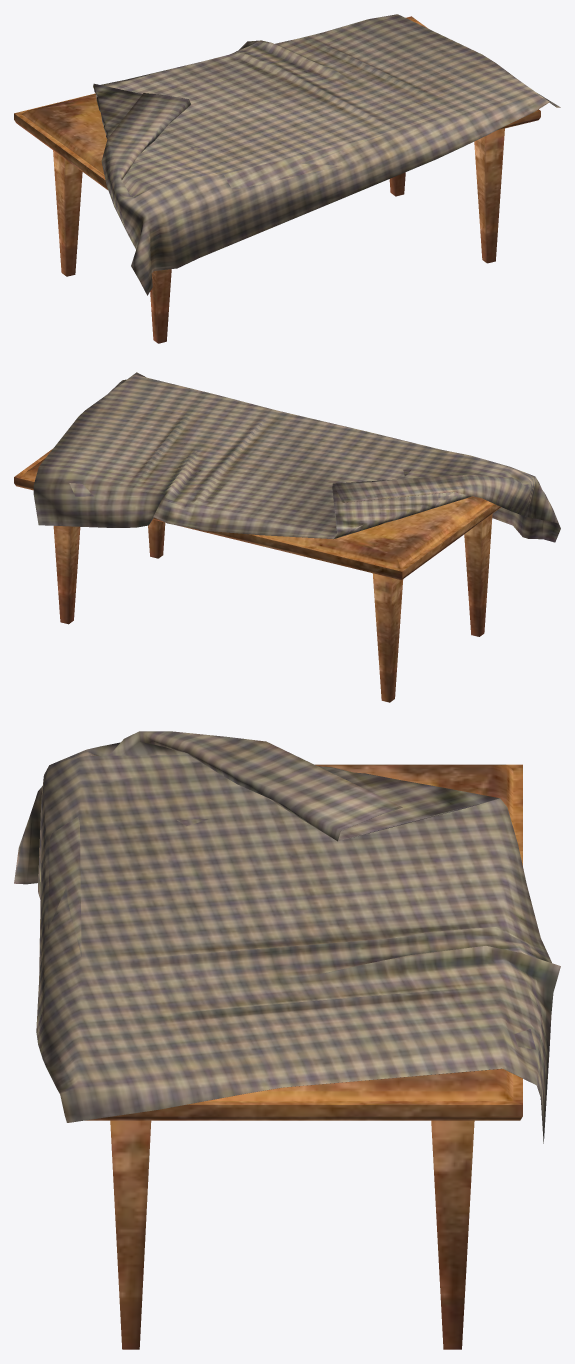
The model's file is dining_table.glb.
3 views of the same model, one above another, from view 1: azimuth 30°, elevation 25°; view 2: azimuth 150°, elevation 25°; view 3: azimuth 270°, elevation 25° (orthographic). The views are drawn at different scales.
Visible parts, largest first — view 1: dining_table; view 2: dining_table; view 3: dining_table.
Part boxes in pixels (box(x1,y1,x2,y2)): dining_table: box(14, 14, 560, 343); dining_table: box(14, 372, 560, 702); dining_table: box(14, 731, 560, 1349).
Size of the model in its own units: 2.26 by 0.8769 by 1.39.
1 material, 1 textured.
